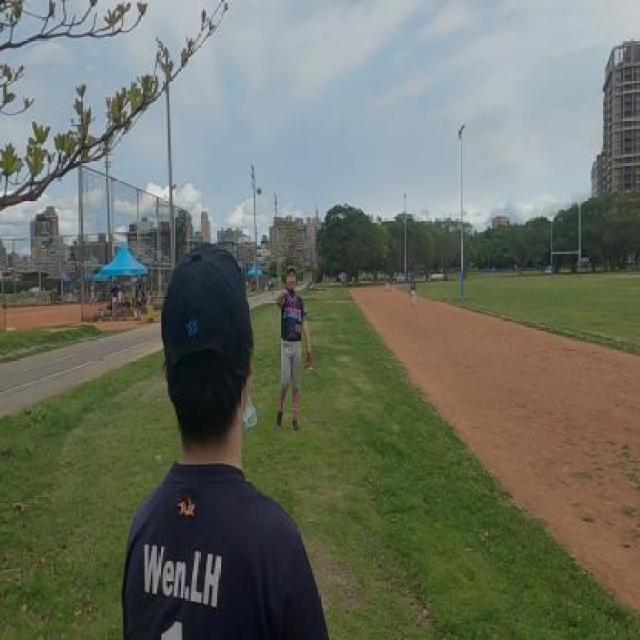baseball: (256, 187, 262, 196)
